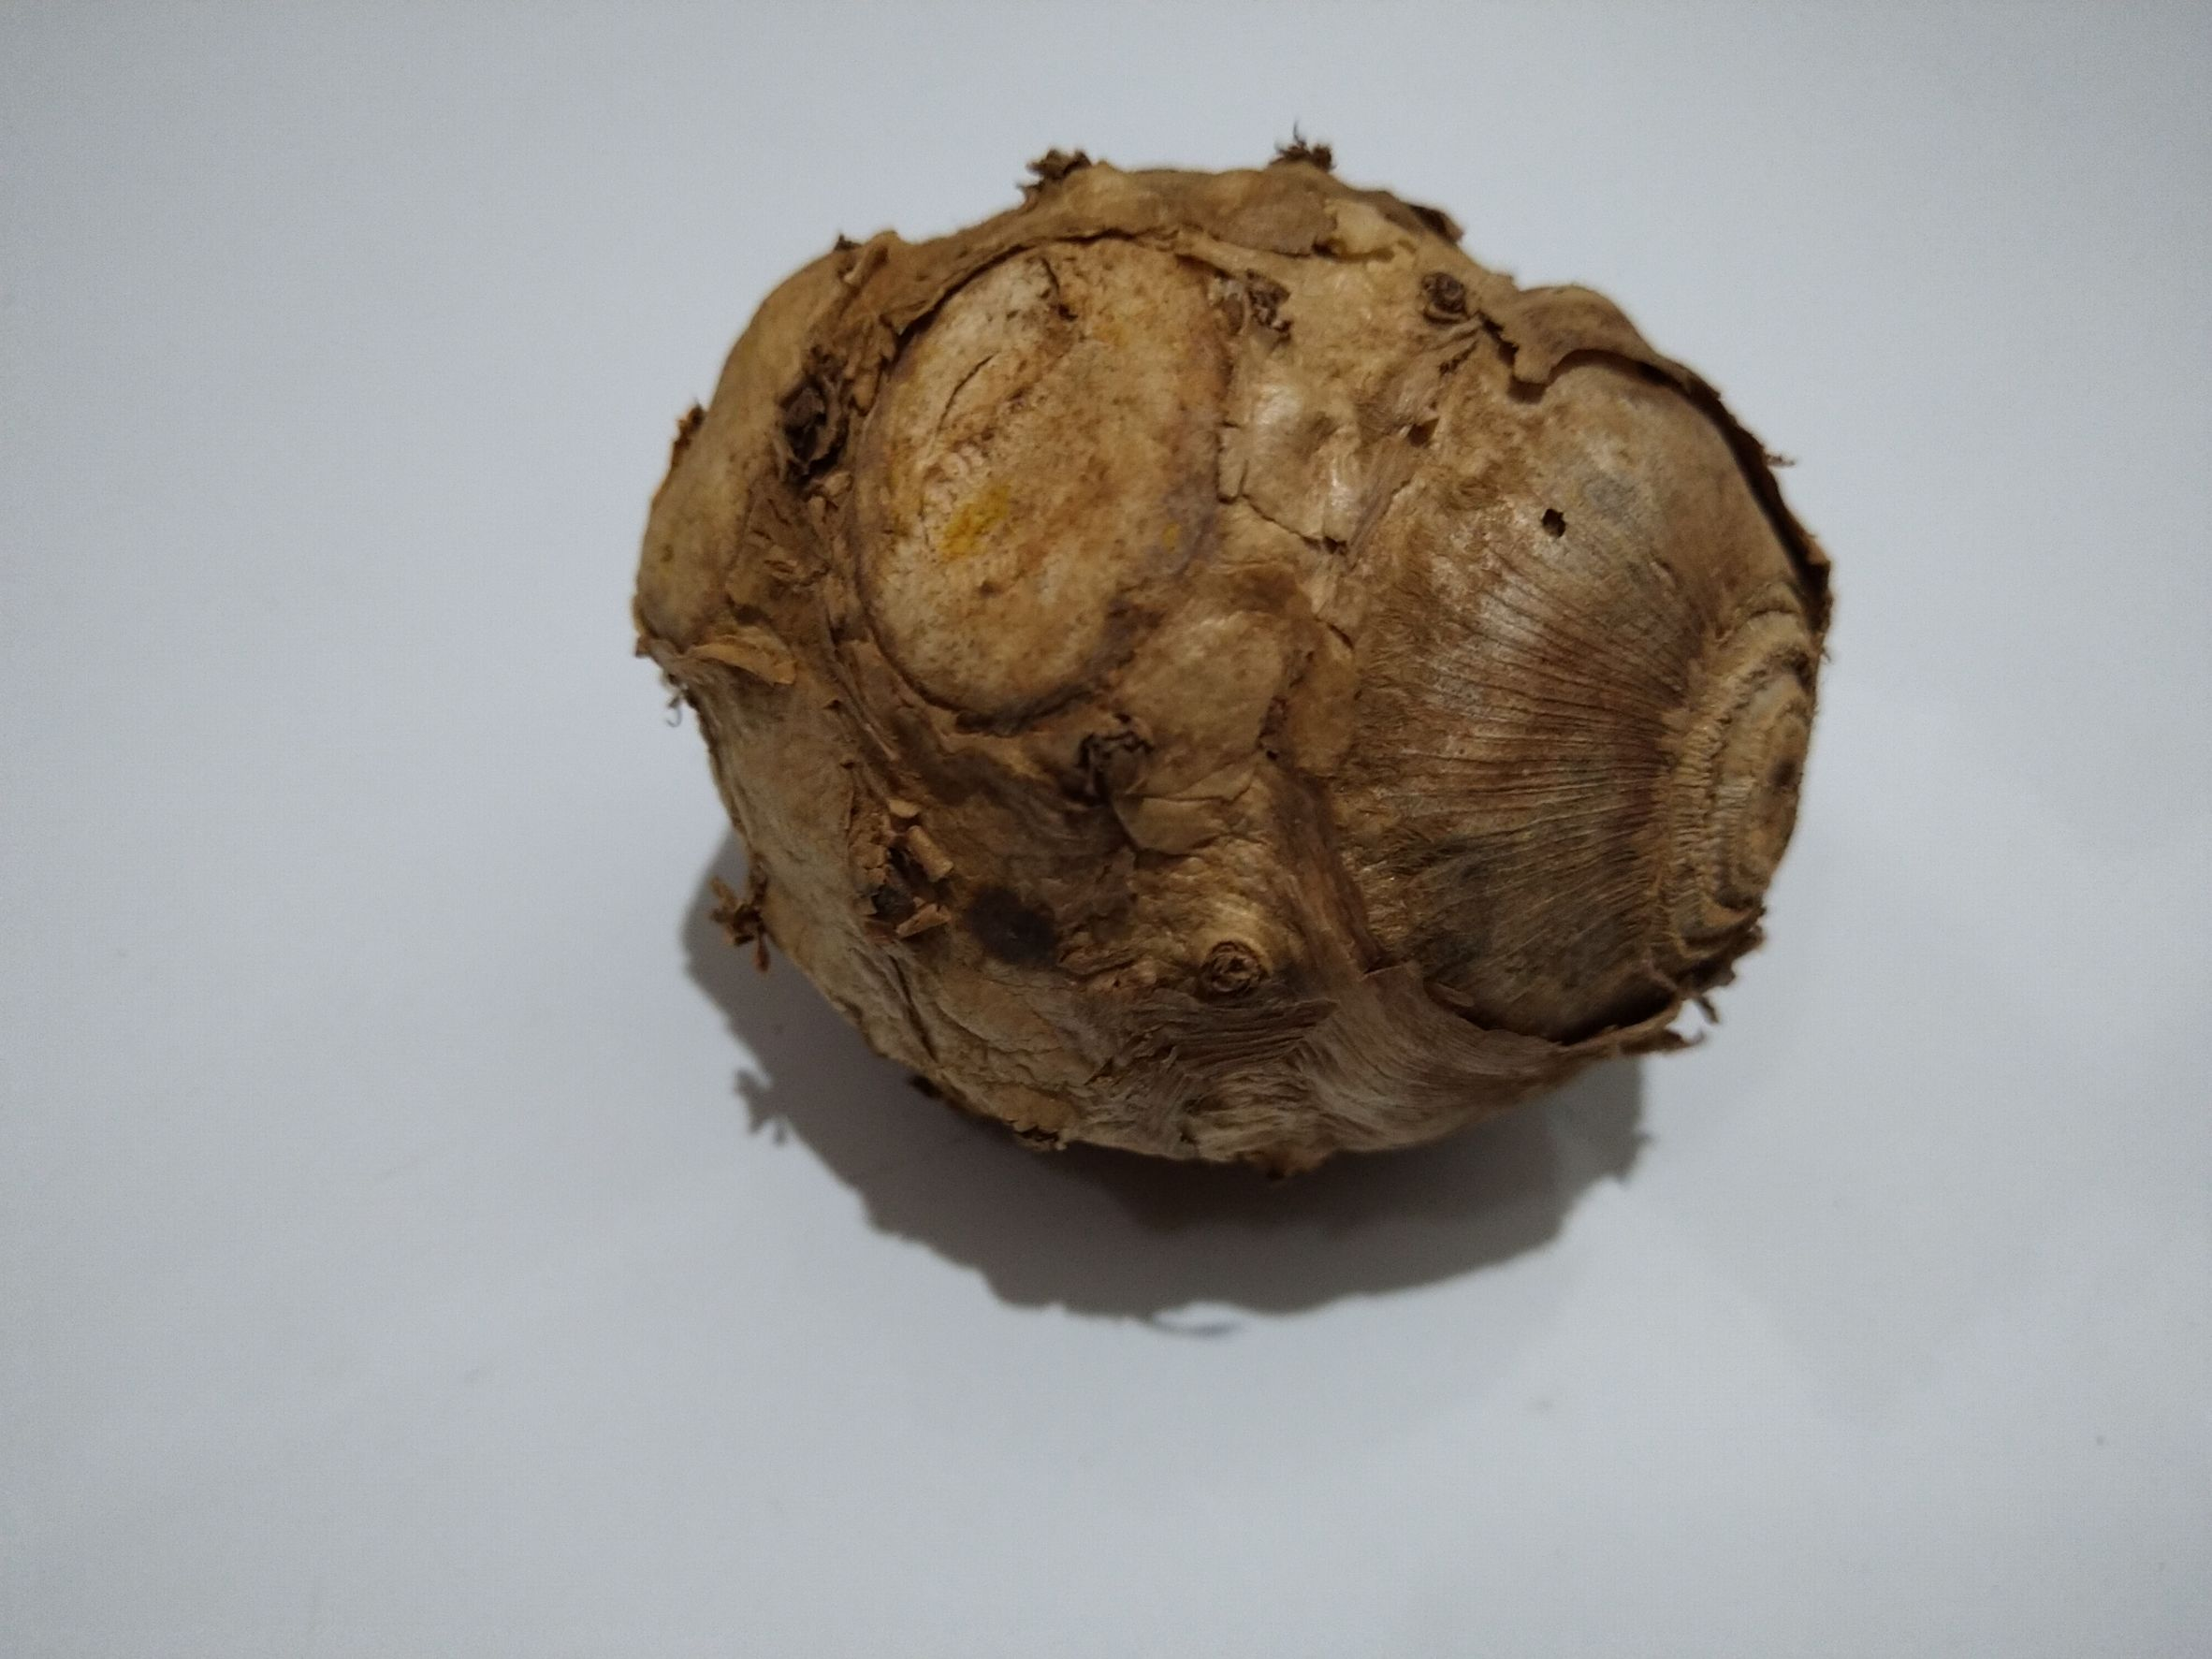Temulawak: (629, 159, 1824, 1248)
